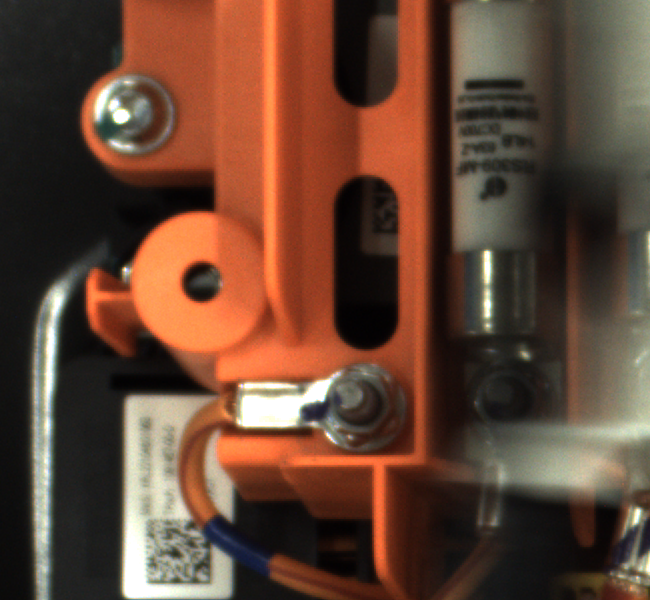screw_m: (84, 71, 201, 165)
screw_s: (309, 353, 399, 442)
